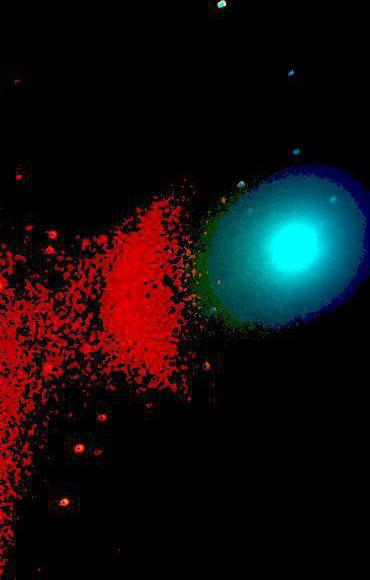star: (210, 183, 240, 213)
